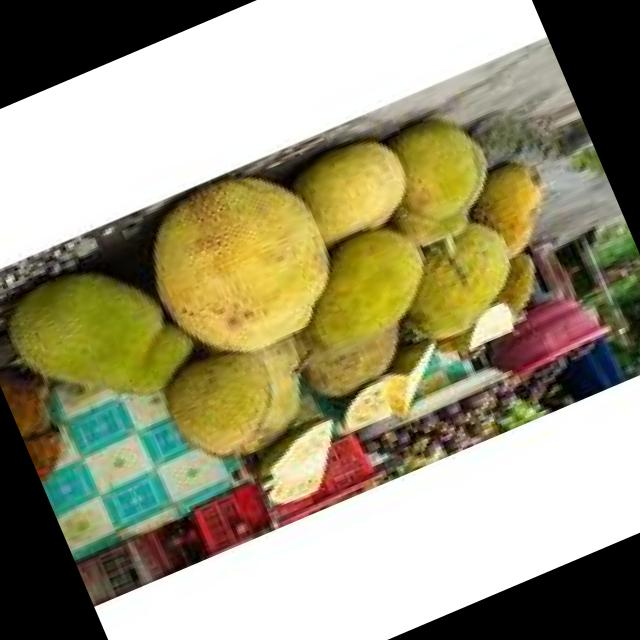Fruit: (116, 142, 370, 401), (0, 229, 211, 457)
